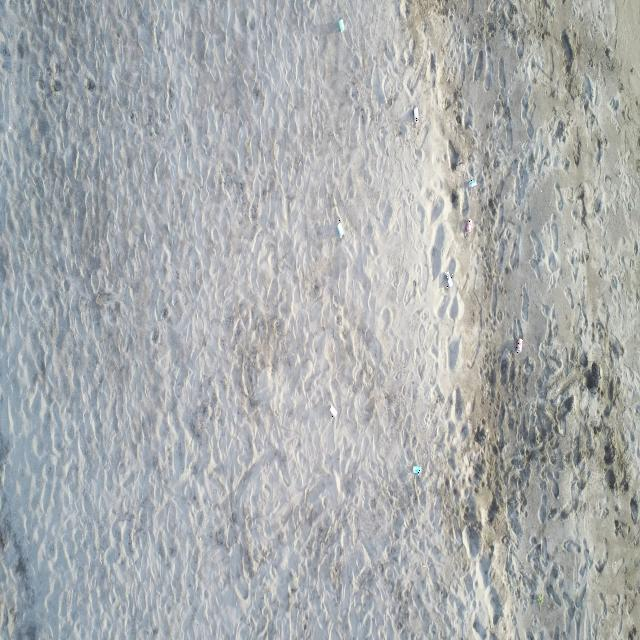tin-and-aluminum-cans: (444, 270, 452, 288), (337, 220, 344, 239), (329, 404, 338, 418), (466, 217, 473, 234), (516, 337, 523, 353), (338, 18, 346, 32), (412, 464, 422, 475), (468, 178, 477, 190), (414, 106, 419, 124)
